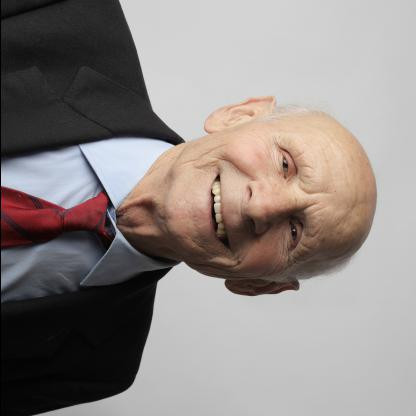Eye: (283, 212, 303, 252), (276, 148, 296, 184)
Mouth: (199, 164, 233, 257)
Nose: (243, 181, 283, 236)
